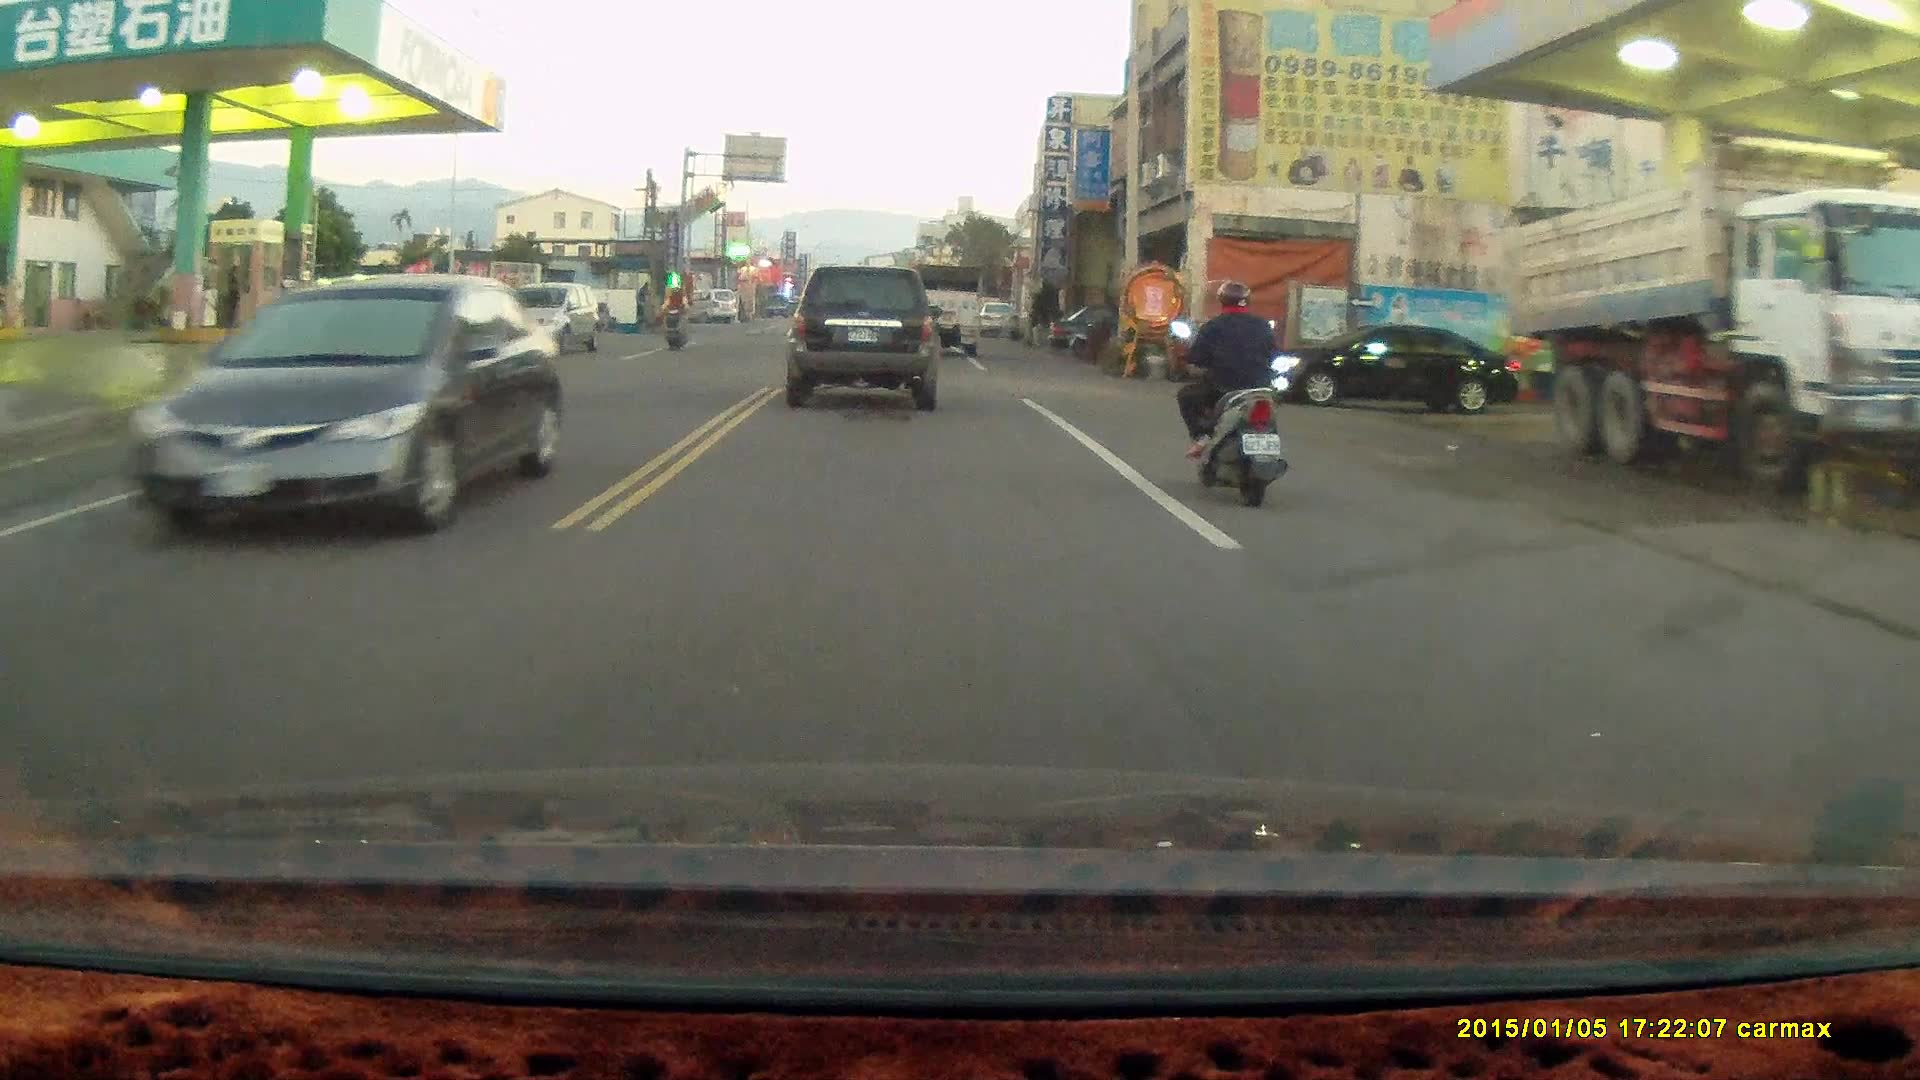rider: (1168, 275, 1289, 508), (655, 282, 686, 353)
vehicle: (1503, 132, 1919, 482), (130, 273, 561, 545), (788, 264, 941, 414), (1281, 324, 1524, 416), (485, 278, 601, 362), (908, 264, 984, 356)
